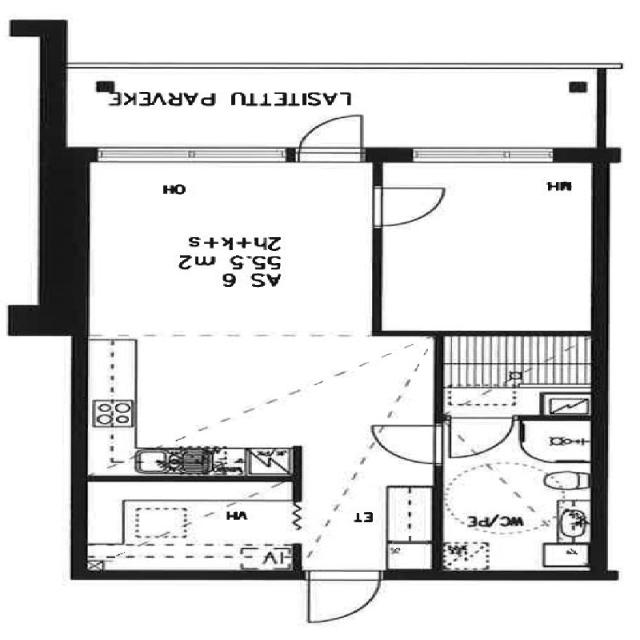door: (297, 567, 389, 624), (290, 111, 373, 162), (366, 419, 446, 468), (368, 183, 448, 228), (441, 413, 516, 460)
window: (86, 142, 294, 166), (401, 142, 565, 167), (0, 0, 45, 41)
zone: (73, 156, 375, 333), (100, 329, 423, 482), (373, 156, 603, 332), (434, 418, 598, 573), (77, 478, 301, 575), (434, 334, 597, 414), (517, 416, 594, 465)
